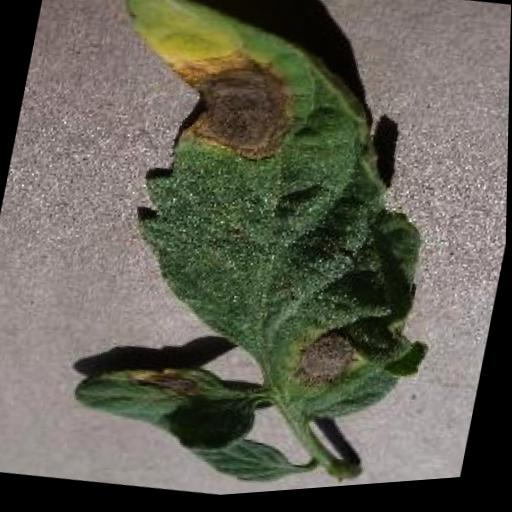Early Blight: (38, 0, 492, 494)
